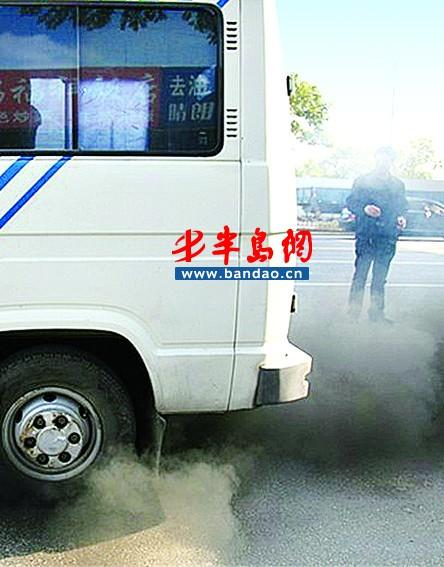smoke: (181, 417, 438, 498)
